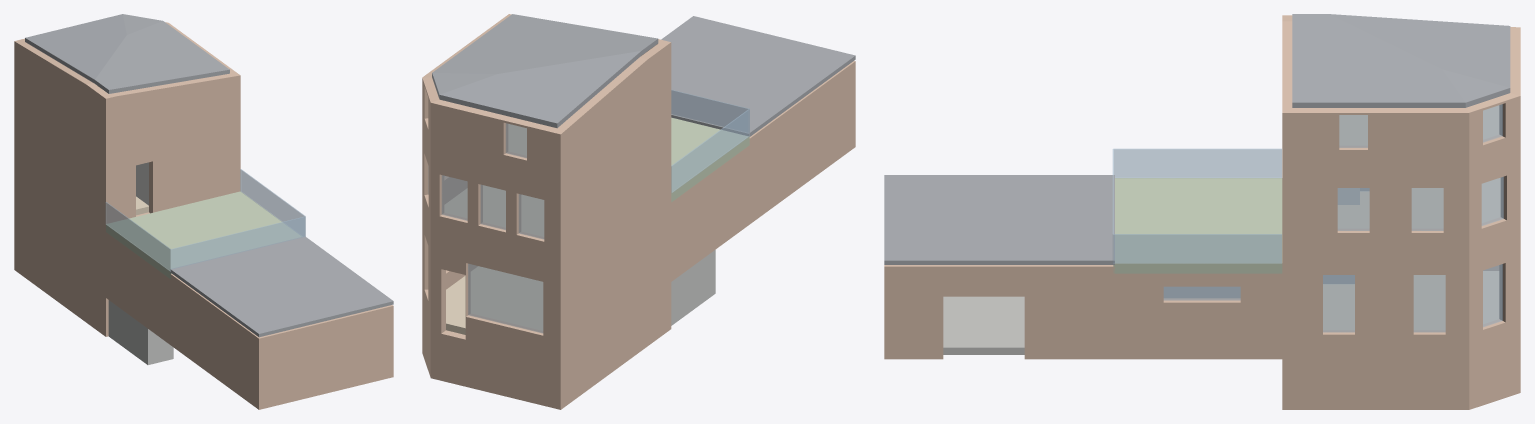
Rendered from maison (1).gltf.
3 renders of one model, left to right at view 1: azimuth 30°, elevation 25°; view 2: azimuth 150°, elevation 25°; view 3: azimuth 270°, elevation 25°, orthographic. The views are drawn at different scales.
Visible parts, largest first — view 1: 1-toiture-garage, 0I, 1-terrasse-projet, 2C, 1C, 0D, 0H, T-pan-cote-b, 2D, 1D, 1-terrasse-projet-garde-corps, 0E (+6 smaller); view 2: 1-toiture-garage, 0D, 0H, 2D, 2A, 1D, T-pan-cote-b, 1A, 0A, SA, 0E, T-pan-cote-a (+18 smaller); view 3: 1-toiture-garage, 0J, 1-terrasse-projet, 0B, 0F, 2B, 1B, T-pan-cote-b, 1-terrasse-projet-garde-corps, SB, 0-garage, T-pan-cote-a (+20 smaller).
Boxes of the visible parts, x1,y1,x2,y2 form: 1-toiture-garage: [170, 236, 393, 337]; 0I: [259, 305, 393, 409]; 1-terrasse-projet: [106, 191, 301, 279]; 2C: [106, 73, 240, 162]; 1C: [106, 130, 240, 223]; 0D: [14, 160, 105, 297]; 0H: [170, 274, 259, 409]; T-pan-cote-b: [67, 21, 229, 93]; 2D: [14, 41, 108, 162]; 1D: [14, 96, 105, 226]; 1-terrasse-projet-garde-corps: [105, 169, 305, 271]; 0E: [106, 232, 170, 344]; 1-toiture-garage: [661, 16, 855, 136]; 0D: [560, 196, 671, 362]; 0H: [748, 61, 855, 224]; 2D: [557, 42, 671, 199]; 2A: [430, 99, 560, 199]; 1D: [560, 119, 671, 276]; T-pan-cote-b: [433, 14, 658, 83]; 1A: [430, 168, 560, 276]; 0A: [430, 245, 560, 362]; SA: [430, 330, 560, 409]; 0E: [671, 146, 748, 281]; T-pan-cote-a: [439, 70, 608, 128]; 1-toiture-garage: [884, 175, 1114, 264]; 0J: [884, 265, 1114, 359]; 1-terrasse-projet: [1113, 178, 1282, 273]; 0B: [1282, 266, 1469, 359]; 0F: [1115, 273, 1282, 359]; 2B: [1282, 108, 1469, 183]; 1B: [1282, 183, 1469, 266]; T-pan-cote-b: [1292, 14, 1465, 107]; 1-terrasse-projet-garde-corps: [1112, 148, 1281, 263]; SB: [1282, 359, 1469, 409]; 0-garage: [943, 296, 1024, 354]; T-pan-cote-a: [1399, 18, 1510, 87].
Size of the model in its own units: 6.35 by 10.95 by 19.86.
